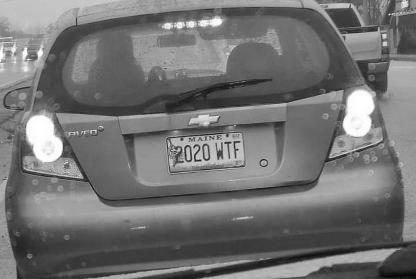license plate: (162, 130, 250, 175)
